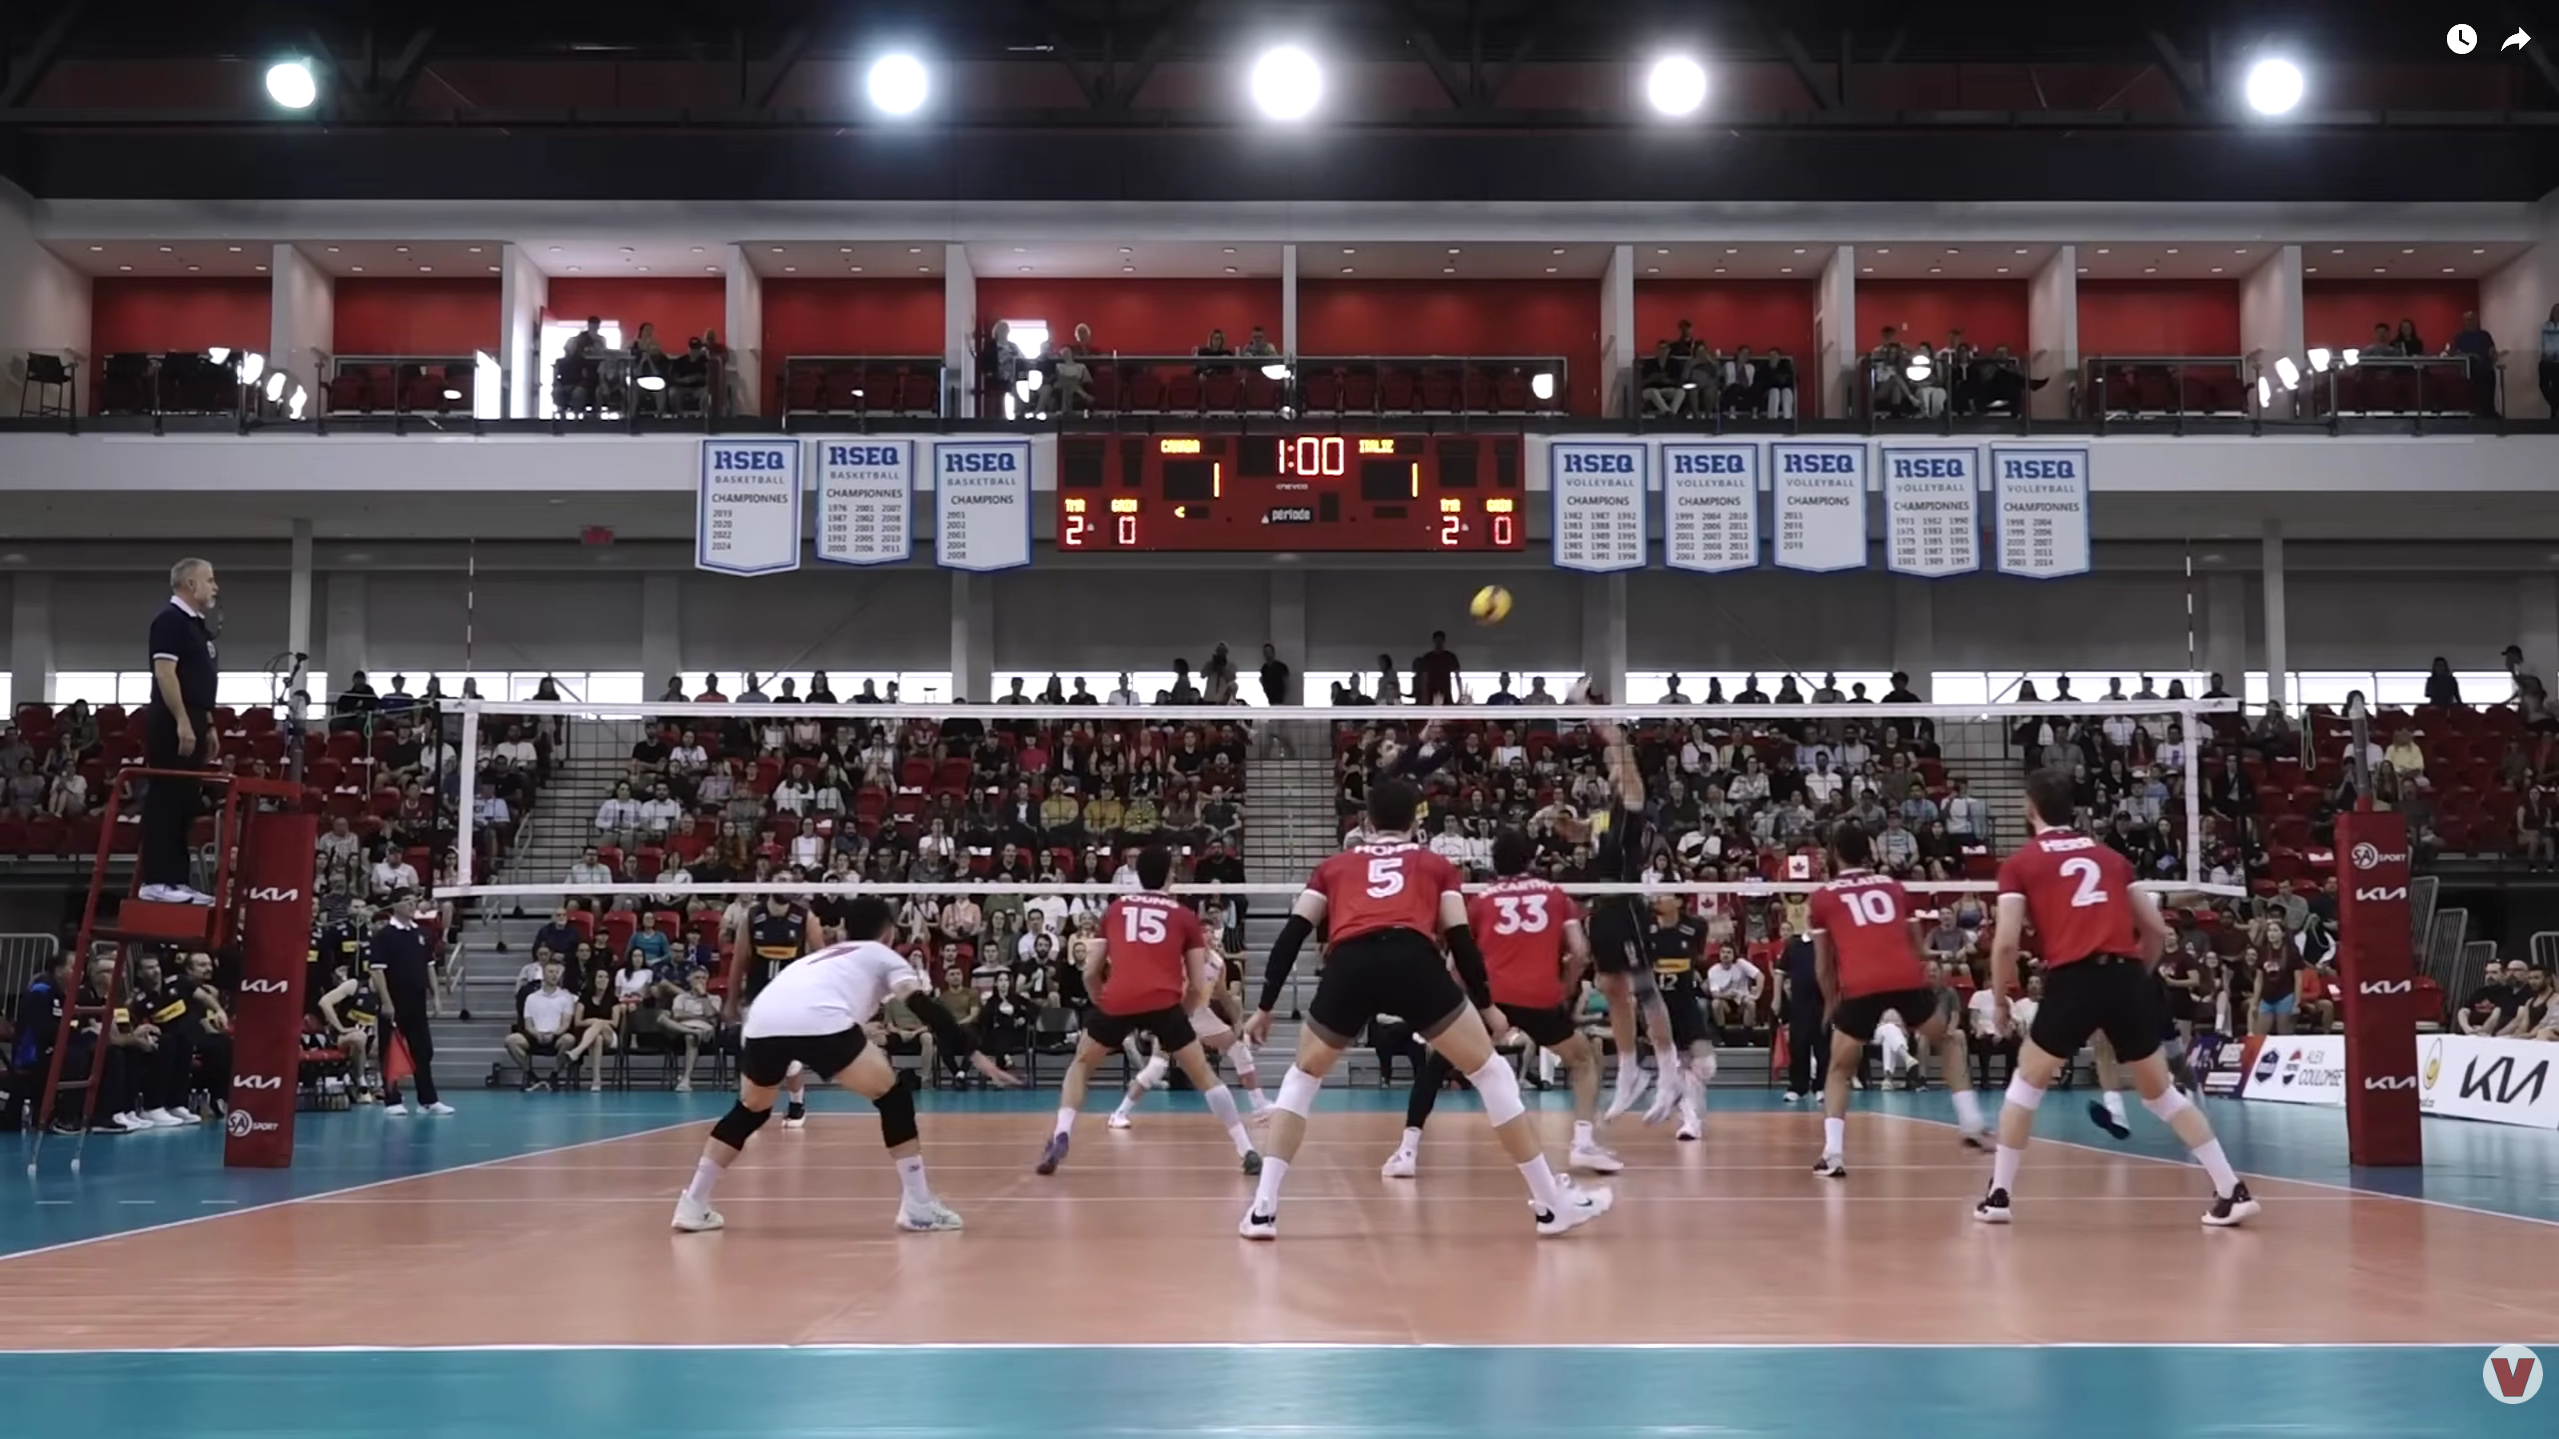Ball: (1468, 583, 1513, 627)
